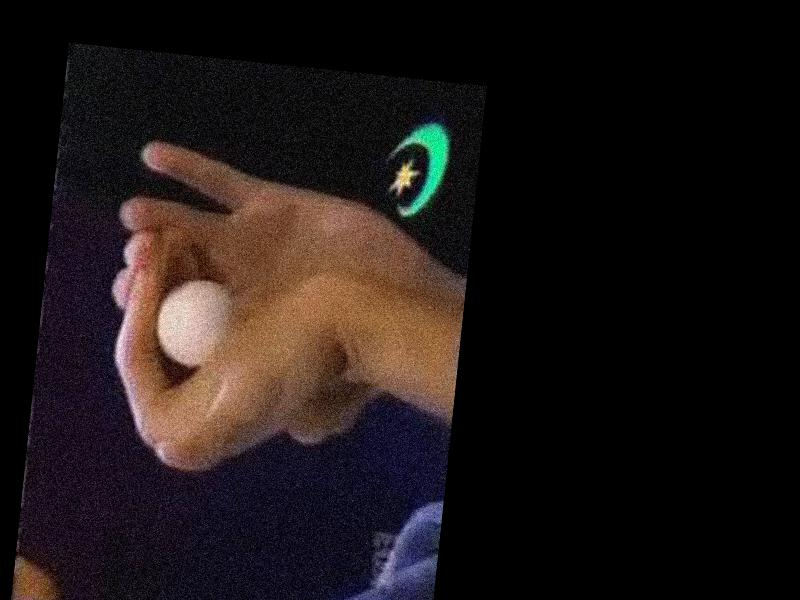Eggs: (150, 274, 228, 371)
